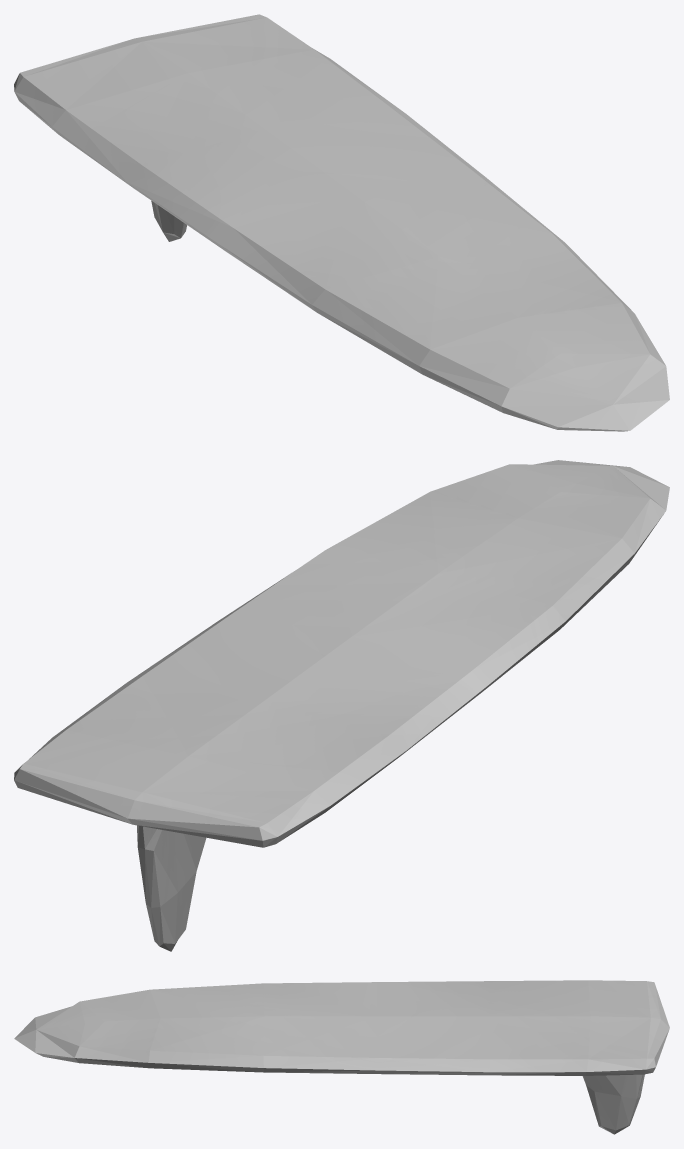
File: tavolaDaSurf.obj
3 renders of one model, top to bottom at view 1: azimuth 30°, elevation 25°; view 2: azimuth 150°, elevation 25°; view 3: azimuth 270°, elevation 25°, orthographic. The views are drawn at different scales.
Parts seen in each view (by area): view 1: Group32205, Group57367; view 2: Group32205, Group57367; view 3: Group32205, Group57367.
Boxes of the visible parts, x1,y1,x2,y2 form: Group32205: [14, 14, 669, 431]; Group57367: [151, 201, 186, 241]; Group32205: [14, 460, 669, 847]; Group57367: [137, 825, 206, 951]; Group32205: [14, 980, 669, 1075]; Group57367: [582, 1074, 644, 1134].
Bounding box in the file's own units: 3.26 × 2.03 × 10.17.
Materials: 1 (1 with a texture image).
